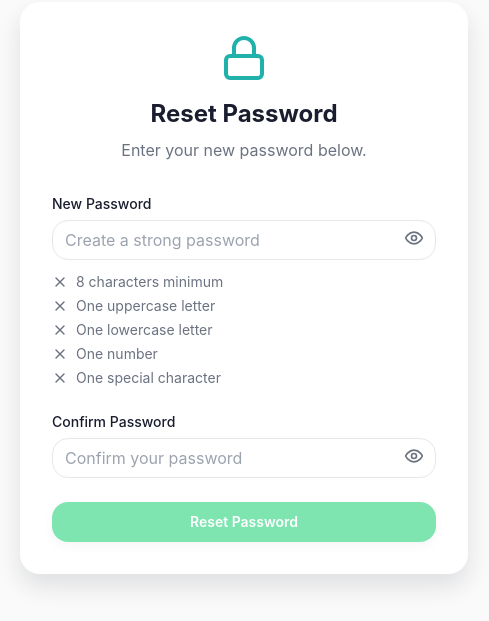
TenantResetPasswordPage › Submit › should show loading state while submitting
This screenshot has width=489, height=621.
Step 1. Type "StrongPass123!" into the password field labelled "New Password" → (244, 240), box x1=52 y1=220 x2=436 y2=260
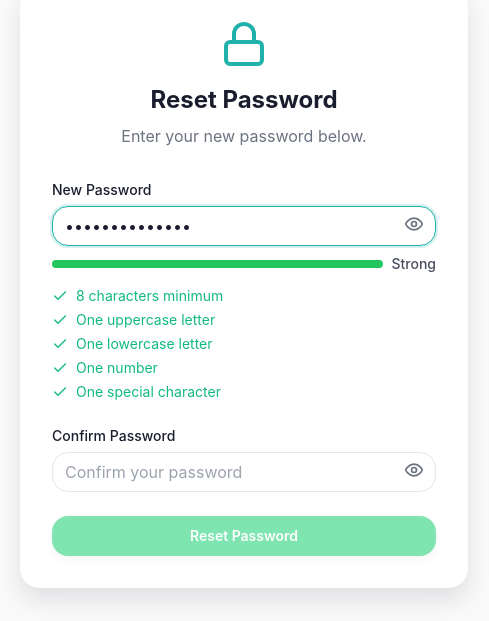
Step 2. Type "StrongPass123!" into the password field labelled "Confirm Password" → (244, 472), box x1=52 y1=452 x2=436 y2=492
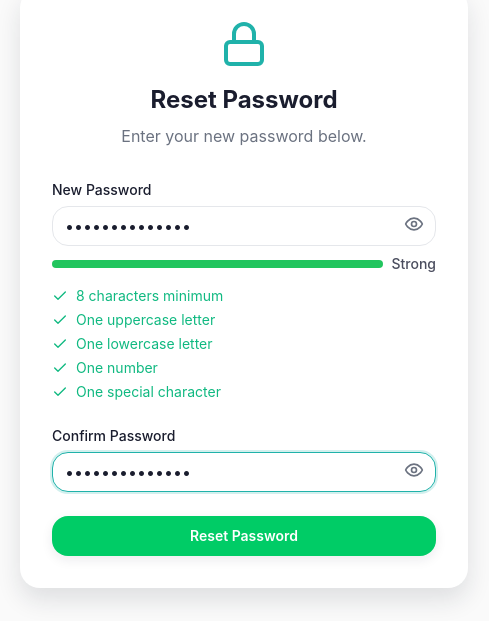
Step 3. Click the button "Reset Password" → (244, 536), box x1=52 y1=516 x2=436 y2=556
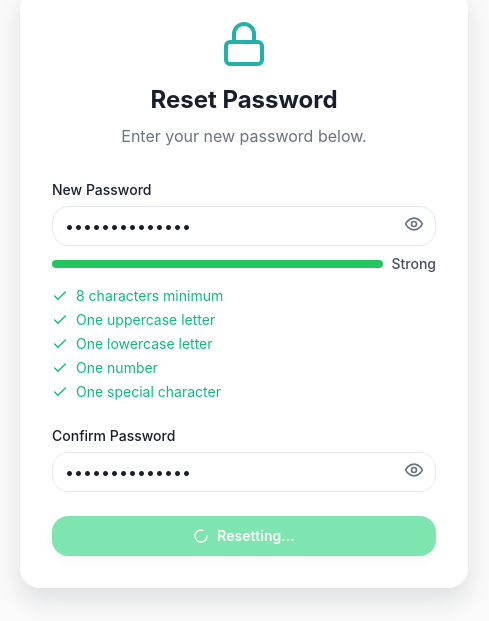
Now the button "Resetting..." is disabled, box x1=52 y1=516 x2=436 y2=556
